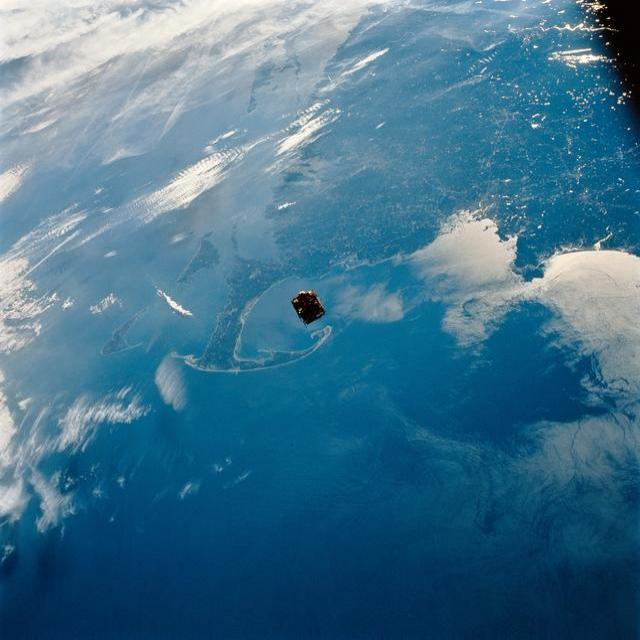medium_debris: (291, 291, 325, 324)
